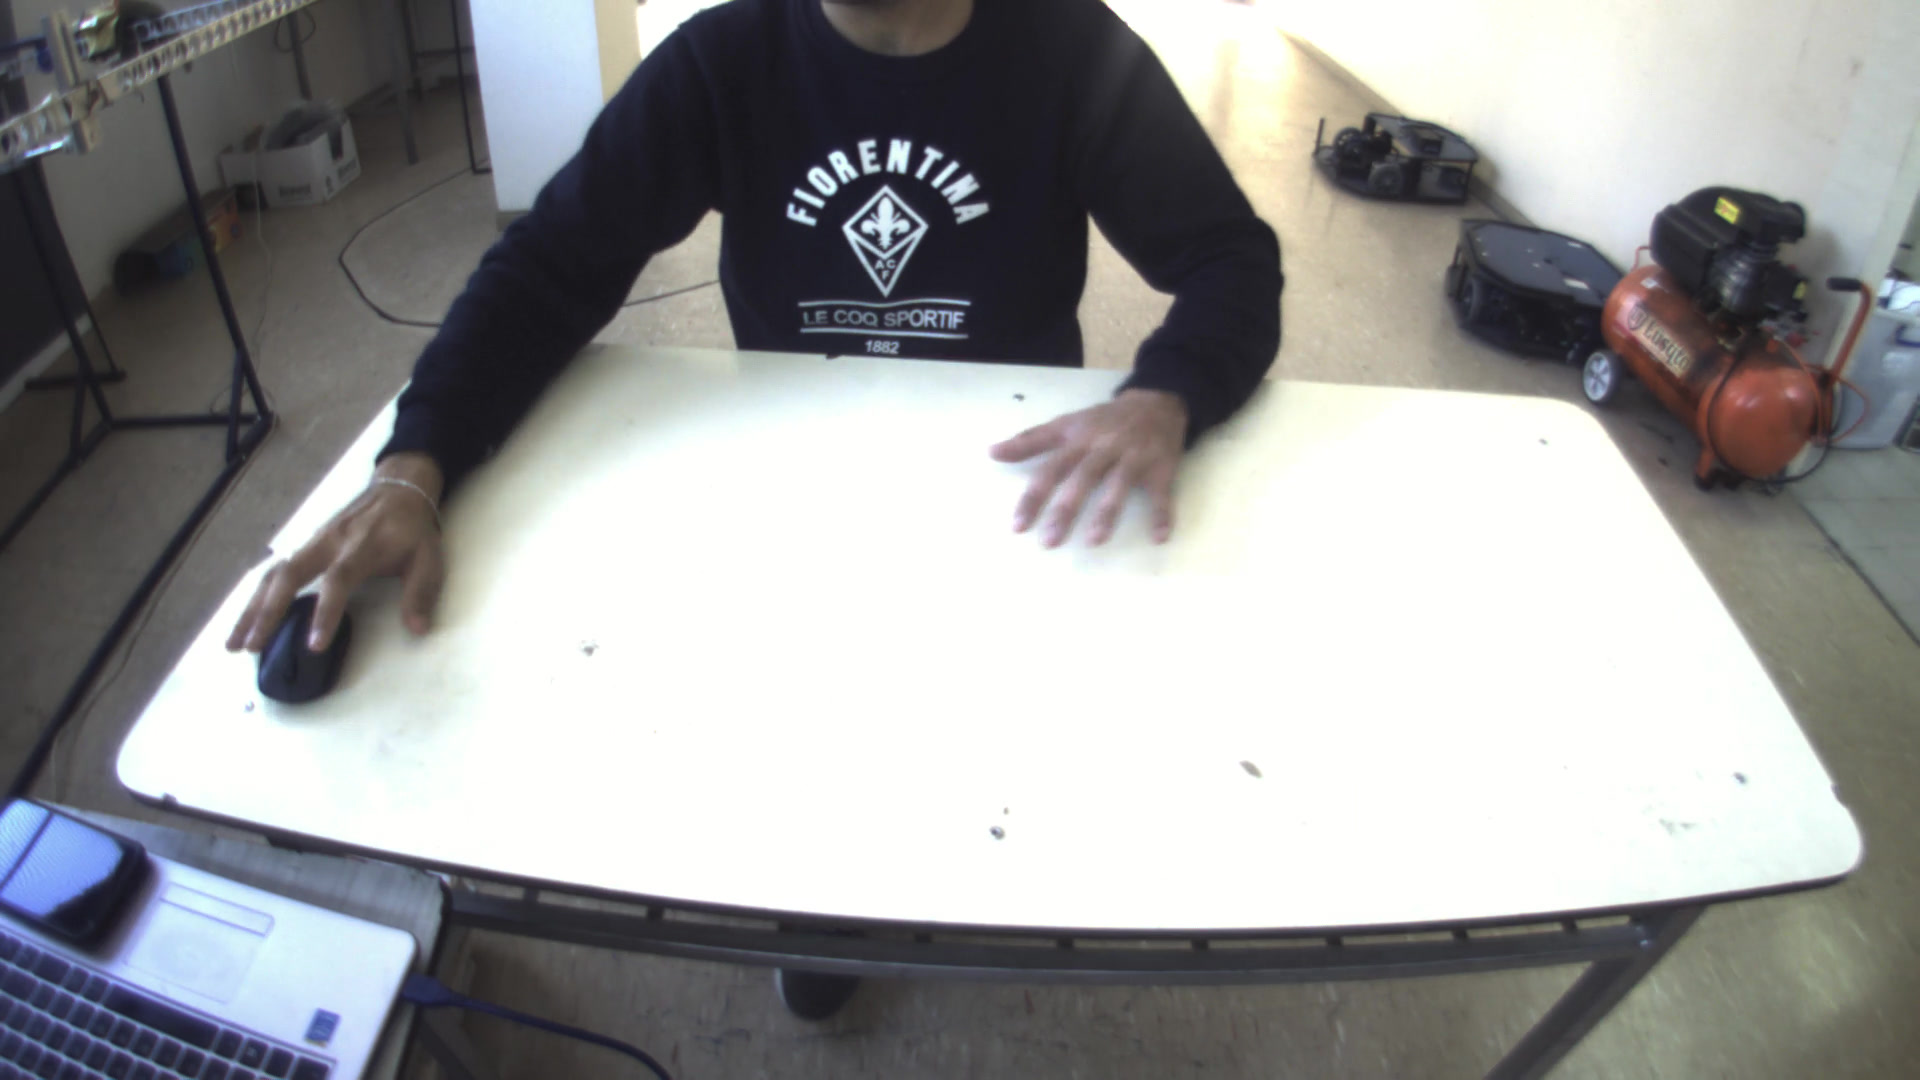hand: (222, 465, 458, 712), (978, 369, 1196, 558)
